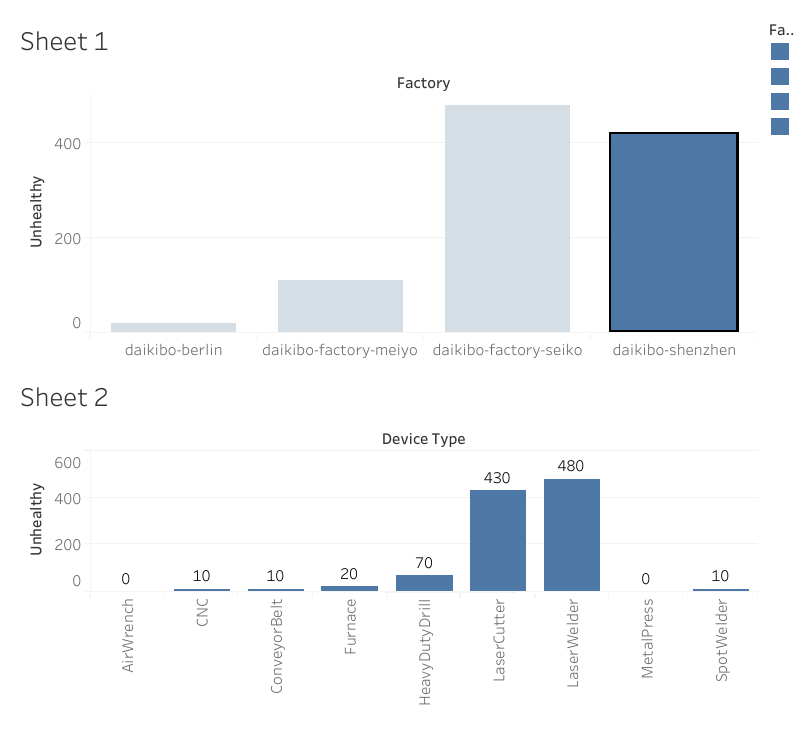

The dashboard page shown, as its layout file describes it:
{"tool":"tableau","page":{"name":"Dashboard 1","canvas":[650,860],"ordinal":0},"visuals":[{"type":"worksheet","title":"Sheet 1","mark":"Automatic","rows":["Calculation_1145988750118912"],"cols":["factory"],"box":[8,8.1,602,421.9]},{"type":"legend","title":"Sheet 1","param":"[federated.14bgsun0v1m6o81aqeyh50cjy5sp].[none:factory:nk]","box":[610,8.1,32,115.1]},{"type":"worksheet","title":"Sheet 2","mark":"Automatic","rows":["Calculation_1145988750118912"],"cols":["deviceType"],"box":[8,430,602,421.9]}]}

Visuals, with their boxes on the page's 650x860 design canvas (x1, y1, x2, y2). These are canvas units, not pixel positions in the 811x730 screenshot, which may show the page scaled, cropped or inside an application window:
"Sheet 1" worksheet: l=8, t=8, r=610, b=430
"Sheet 1" legend: l=610, t=8, r=642, b=123
"Sheet 2" worksheet: l=8, t=430, r=610, b=852
